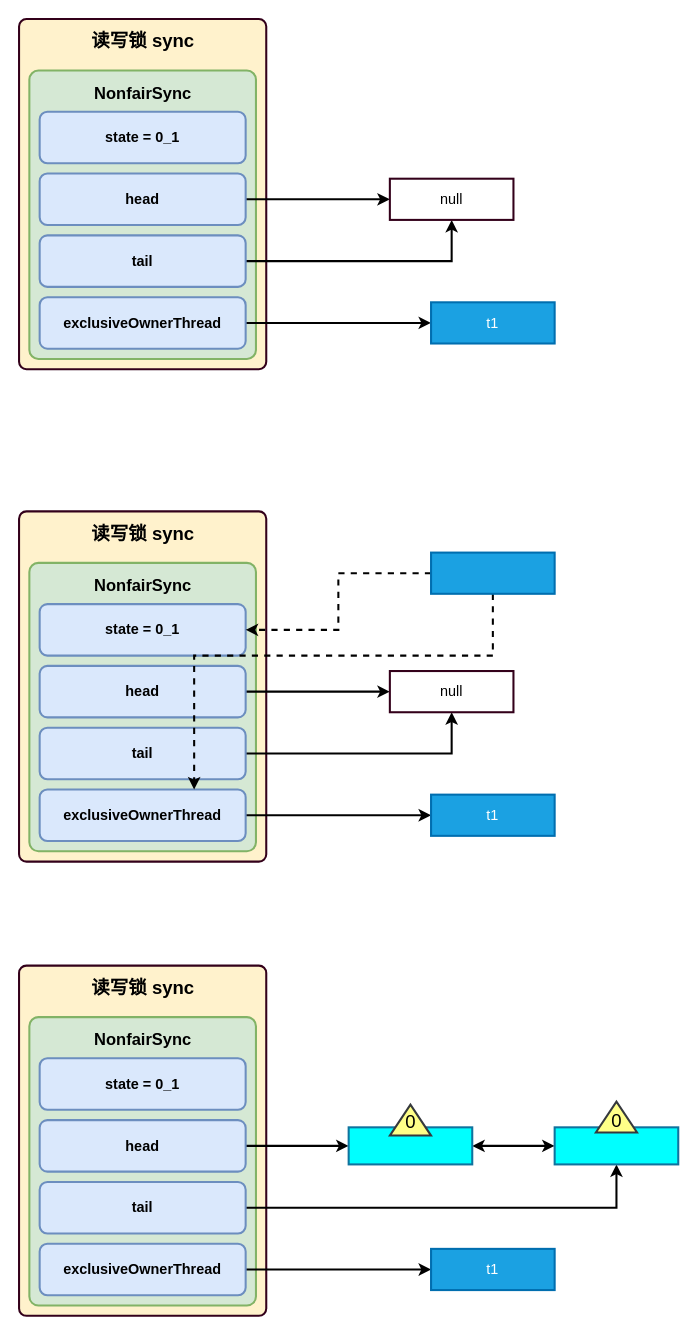
The diagram is 696 pixels wide and 1334 high, and some of its shapes have lost their labels. The shapes that lost their labels are listed below. From the top down, each one's centre as x and y in pixels, then its label:
[492,572]: t2
[410,1145]: Node(null)
[616,1145]: Node(t2) Shared
